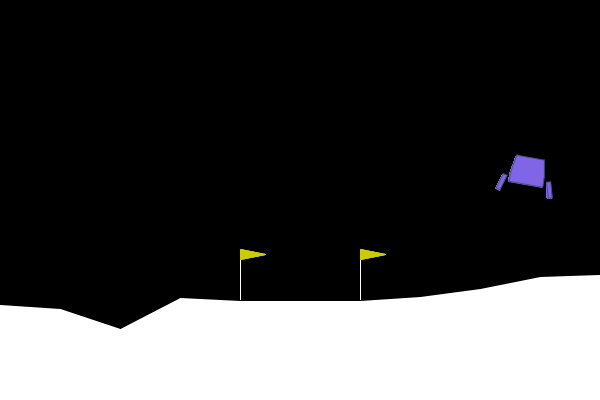lander: (494, 151, 560, 201)
